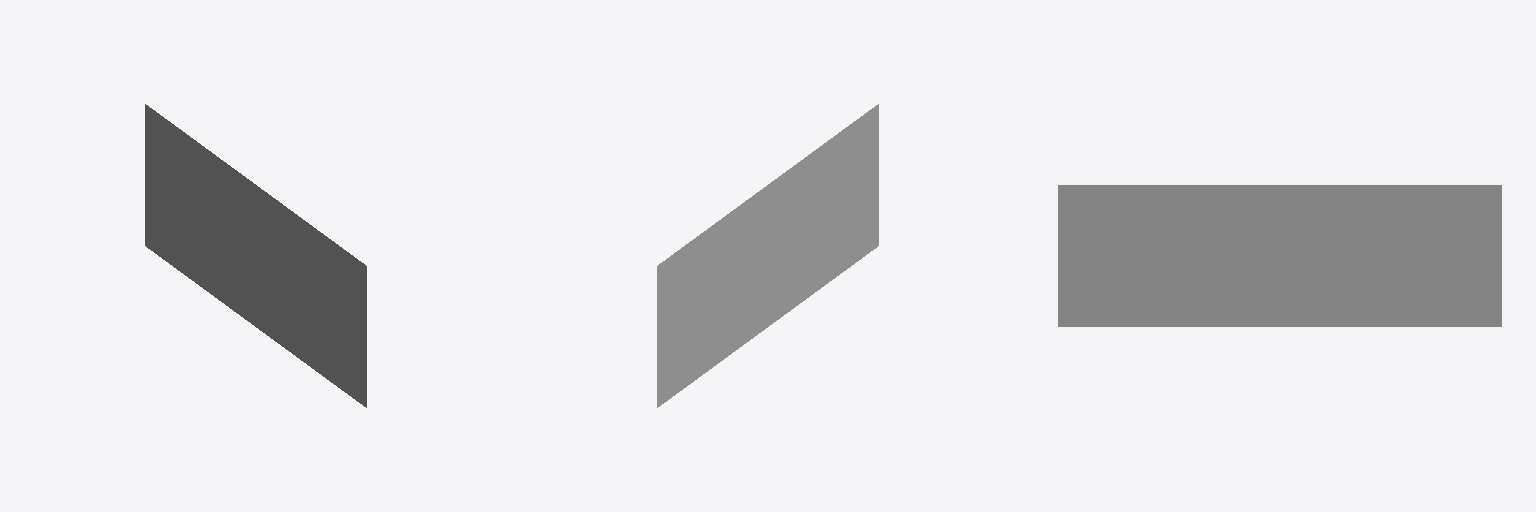
Rendered from Atrium_wall.obj.
3 renders of one model, left to right at view 1: azimuth 30°, elevation 25°; view 2: azimuth 150°, elevation 25°; view 3: azimuth 270°, elevation 25°, orthographic.
Parts seen in each view (by area): view 1: pPlane1; view 2: pPlane1; view 3: pPlane1.
Part boxes in pixels (left/top/right/bottom): pPlane1: left=145, top=104, right=366, bottom=407; pPlane1: left=657, top=104, right=878, bottom=407; pPlane1: left=1058, top=185, right=1501, bottom=326.
Size of the model in its own units: 0 by 717 by 2026.